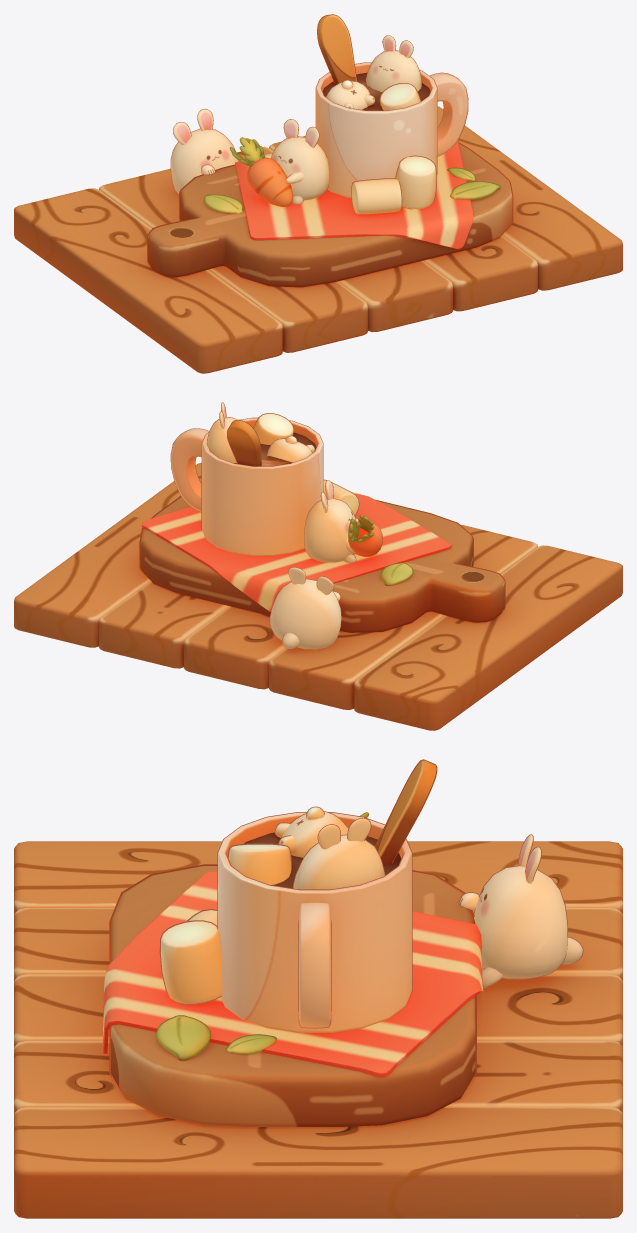
3 views of the same model, one above another, from view 1: azimuth 30°, elevation 25°; view 2: azimuth 150°, elevation 25°; view 3: azimuth 270°, elevation 25° (orthographic). The views are drawn at different scales.
Parts seen in each view (by area): view 1: Table, Table_chow, Cup, Bony, Malva, Carriot, Palette, Leaf; view 2: Table, Table_chow, Cup, Bony, Malva, Palette, Carriot, Leaf; view 3: Table, Table_chow, Cup, Bony, Malva, Palette, Leaf.
Part boxes in pixels (x1,y1,x2,y2): Table: (14,106,622,373); Table_chow: (147,141,513,287); Cup: (315,62,468,197); Bony: (170,35,421,204); Malva: (351,82,436,214); Carriot: (229,137,292,206); Palette: (317,14,357,84); Leaf: (204,167,500,214); Table: (14,462,622,730); Table_chow: (139,492,505,632); Cup: (170,417,323,555); Bony: (207,402,358,649); Malva: (253,413,359,515); Palette: (227,419,261,466); Carriot: (348,514,382,556); Leaf: (380,562,413,585); Table: (14,841,622,1218); Table_chow: (103,864,483,1126); Cup: (217,812,412,1032); Bony: (274,806,583,988); Malva: (159,843,291,1004); Palette: (375,759,437,865); Leaf: (156,1015,276,1060).
Bounding box in the file's own units: 4.77 × 2.19 × 3.7.
Materials: 4 (4 with a texture image).
